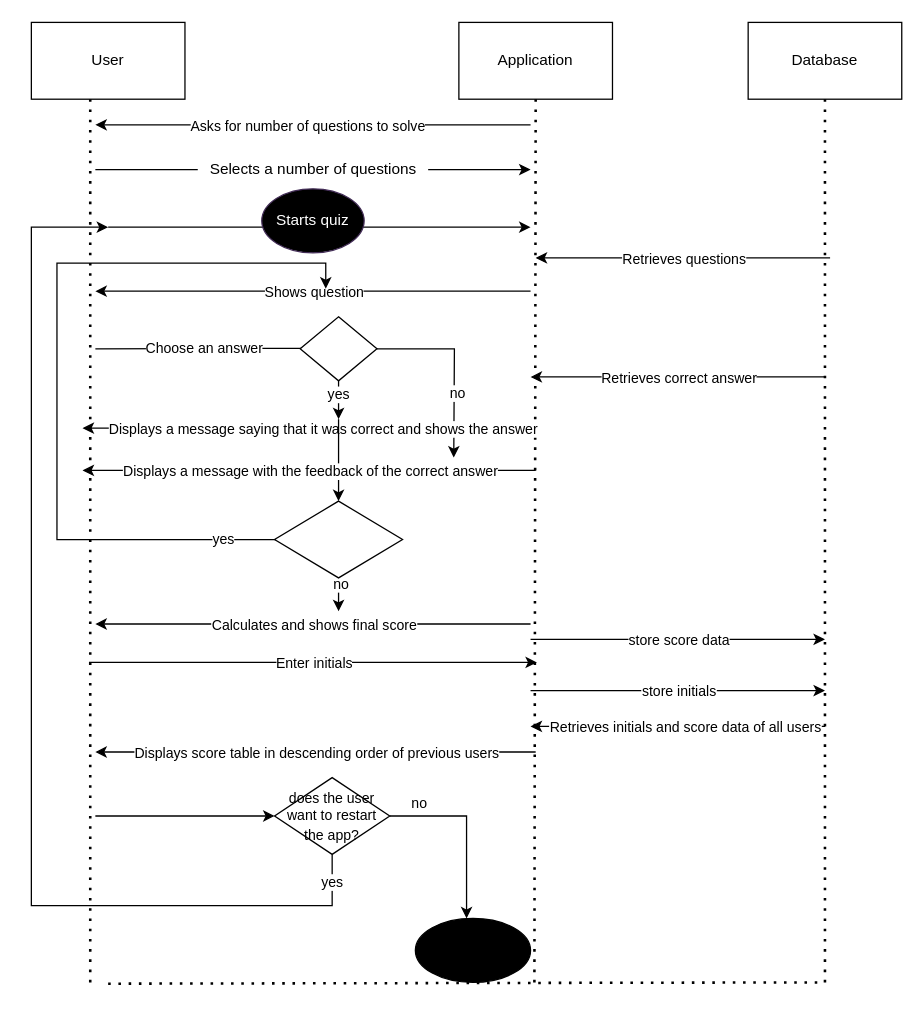
Some shapes in this 924 by 1009 pixel diagram are drawn without their labels. Here are the shapes that lost their labels. From the top down, the box of each, then its label:
(299, 316, 377, 381): is it correct?
(273, 500, 403, 578): is there any other question?
(414, 917, 531, 982): Ends application
